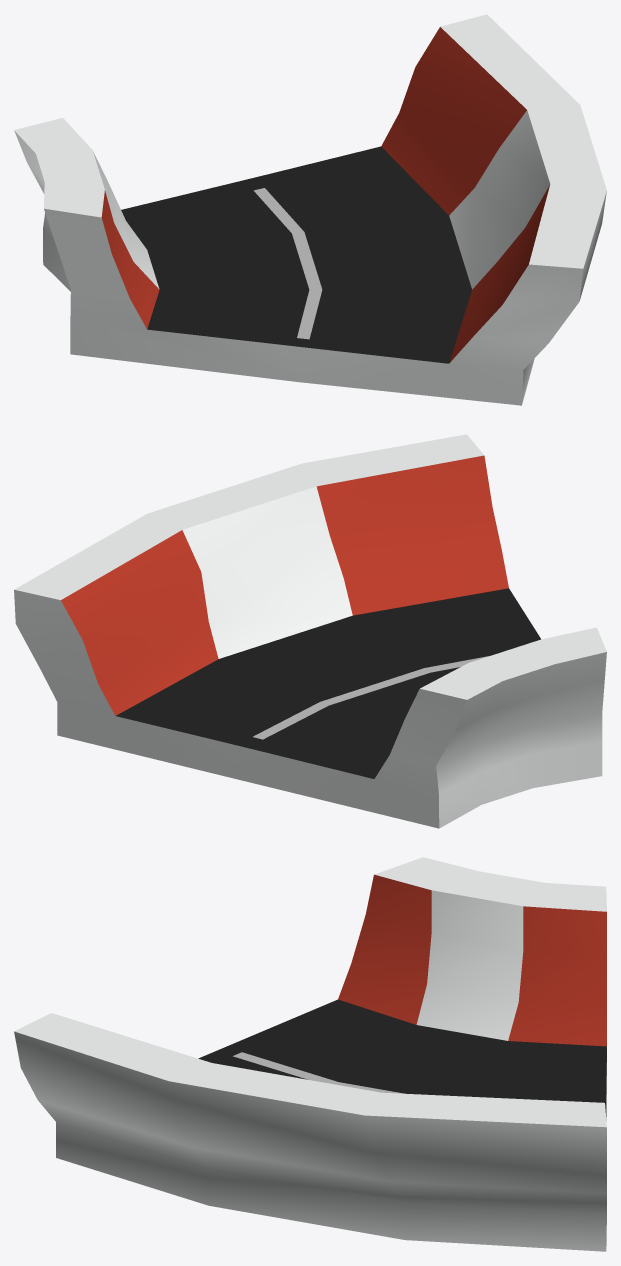
Rendered from duong cong 1  red.fbx.
The picture shows the model from 3 angles, top to bottom: view 1: azimuth 30°, elevation 25°; view 2: azimuth 150°, elevation 25°; view 3: azimuth 270°, elevation 25°; orthographic projection. The views are drawn at different scales.
Visible parts, largest first — view 1: duogn_cong; view 2: duogn_cong; view 3: duogn_cong.
Part boxes in pixels (x1,y1,x2,y2): duogn_cong: (14,14,606,405); duogn_cong: (14,434,606,828); duogn_cong: (14,857,606,1251).
Size of the model in its own units: 23.57 by 6 by 21.87.
Materials: 1 (1 with a texture image).
